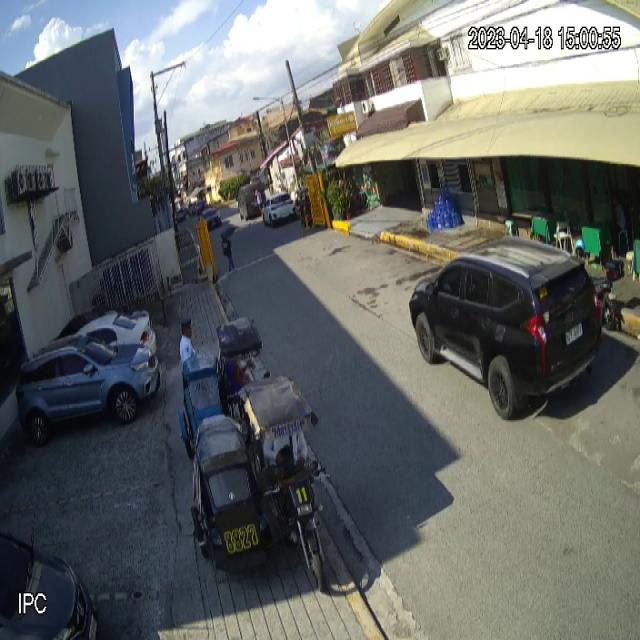Car: (409, 238, 603, 422), (14, 332, 163, 448)
Tricycle: (190, 371, 328, 594), (180, 312, 270, 460)
